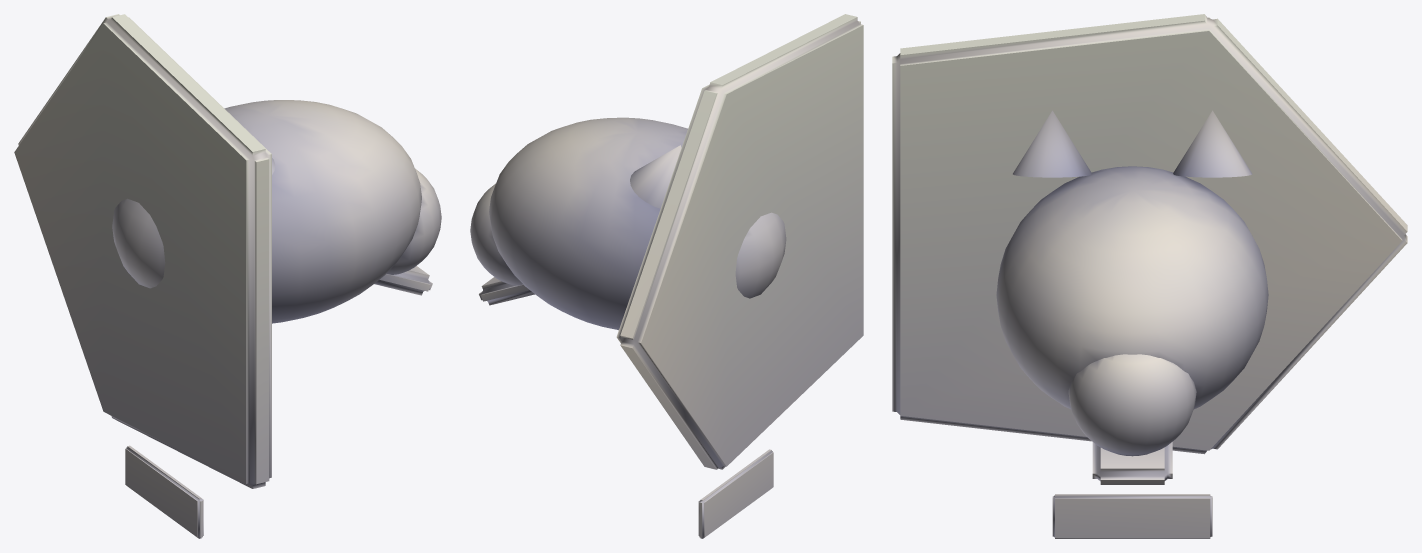
Rendered from trophy-leopard.glb.
3 views of the same model, side by side, from view 1: azimuth 30°, elevation 25°; view 2: azimuth 150°, elevation 25°; view 3: azimuth 270°, elevation 25° (orthographic). The views are drawn at different scales.
Visible parts, largest first — view 1: body; view 2: body; view 3: body.
Boxes of the visible parts, box(x1,y1,x2,y2) form: body: box(14, 14, 441, 538); body: box(470, 14, 863, 538); body: box(892, 14, 1407, 538).
Bounding box in the file's own units: 0.481 × 0.7088 × 0.6436.
